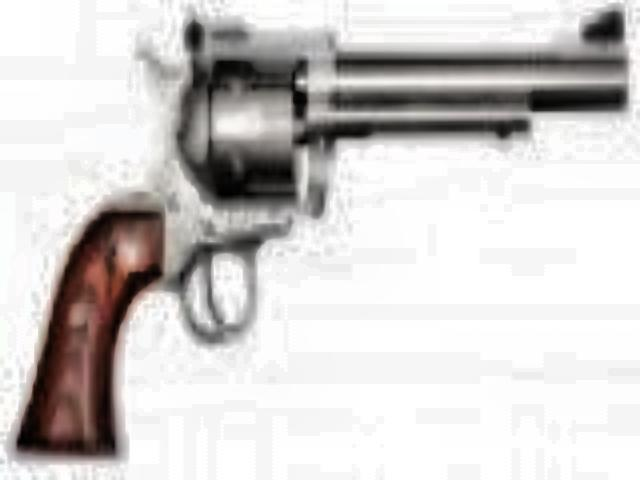pistol: (8, 8, 624, 444)
